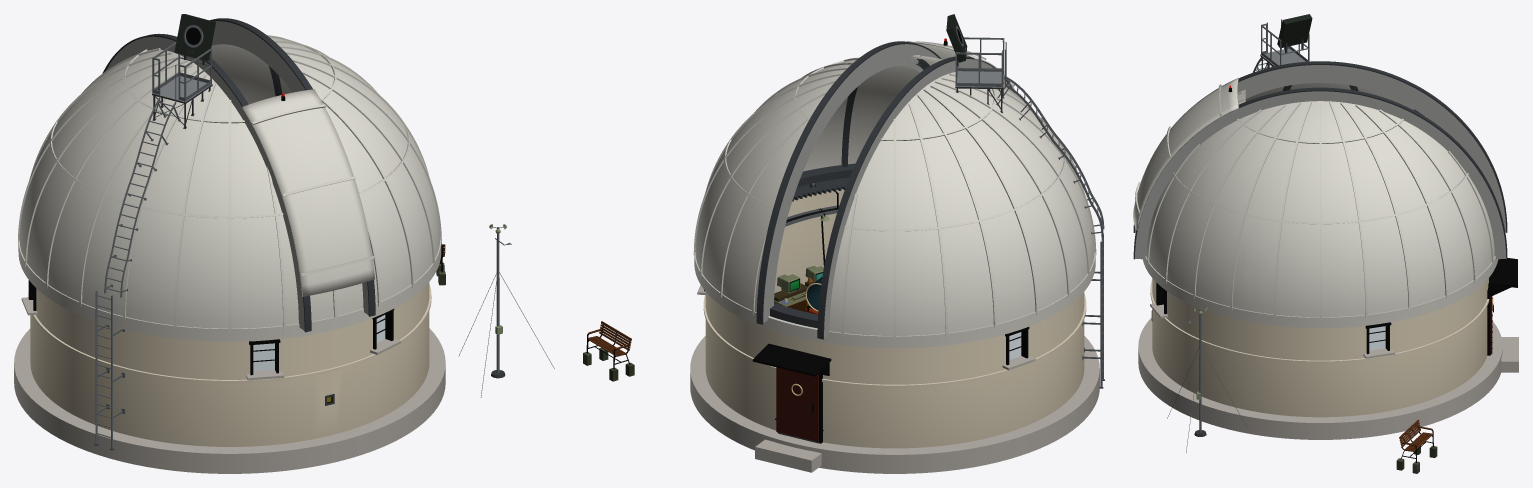
The model's file is observatory.glb.
The picture shows the model from 3 angles, left to right: view 1: azimuth 30°, elevation 25°; view 2: azimuth 150°, elevation 25°; view 3: azimuth 270°, elevation 25°; orthographic projection. The views are drawn at different scales.
Visible parts, largest first — view 1: Dome_dome, obs_plaster, obs_stone, Dome_steel, Dome_steel@near, obs_steel@near, obs_metal_black, Dome_painted, obs_glass, obs_steel, Dome_plate; view 2: Dome_dome, obs_plaster, Dome_steel, obs_stone, Door_painted, obs_metal_black, obs_steel, Interior_painted@in, Dome_steel@near, obs_wood@near, Dome_plate, Dome_painted; view 3: Dome_dome, obs_plaster, Dome_steel, obs_stone, obs_metal_black, Dome_painted, obs_steel@near, obs_wood@near, Dome_plate.
Boxes of the visible parts, box(x1,y1,x2,y2) form: Dome_dome: box(18, 35, 441, 341); obs_plaster: box(28, 282, 431, 446); obs_stone: box(14, 297, 445, 473); Dome_steel: box(102, 18, 375, 332); Dome_steel@near: box(105, 25, 211, 292); obs_steel@near: box(94, 233, 554, 450); obs_metal_black: box(28, 280, 394, 403); Dome_painted: box(174, 14, 215, 60); obs_glass: box(253, 315, 385, 371); obs_steel: box(95, 290, 112, 449); Dome_plate: box(152, 76, 212, 102); Dome_dome: box(693, 41, 1096, 348); obs_plaster: box(703, 189, 1086, 448); Dome_steel: box(756, 37, 1104, 339); obs_stone: box(690, 285, 1099, 473); Door_painted: box(776, 367, 818, 441); obs_metal_black: box(704, 290, 1029, 443); obs_steel: box(778, 177, 1103, 443); Interior_painted@in: box(774, 216, 829, 312); Dome_steel@near: box(956, 26, 1103, 234); obs_wood@near: box(588, 321, 631, 356); Dome_plate: box(955, 71, 1004, 87); Dome_painted: box(946, 14, 967, 62); Dome_dome: box(1133, 78, 1498, 328); obs_plaster: box(1150, 278, 1489, 417); Dome_steel: box(1133, 19, 1507, 259); obs_stone: box(1138, 303, 1518, 439); obs_metal_black: box(1156, 258, 1517, 355); Dome_painted: box(1277, 14, 1312, 47); obs_steel@near: box(1151, 310, 1429, 453); obs_wood@near: box(1399, 419, 1432, 451); Dome_plate: box(1260, 48, 1305, 66).
Size of what is drawn, in the model's own units: 14.59 by 11.76 by 12.61.
